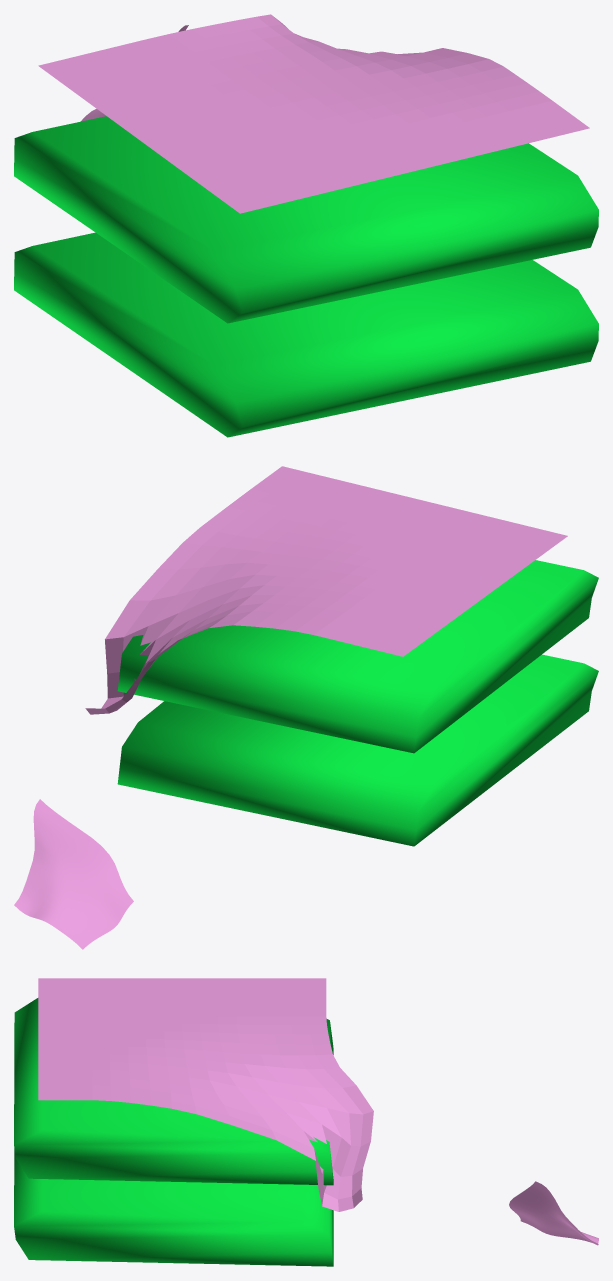
File: newHamburger.glb
3 views of the same model, one above another, from view 1: azimuth 30°, elevation 25°; view 2: azimuth 150°, elevation 25°; view 3: azimuth 270°, elevation 25° (orthographic). The views are drawn at different scales.
Parts seen in each view (by area): view 1: Cube.001, Cube, Plane; view 2: Plane, Cube, Cube.001; view 3: Plane, Cube, Cube.001.
Part boxes in pixels (box(x1,y1,x2,y2)): Cube.001: box(14, 116, 598, 323); Cube: box(14, 232, 598, 437); Plane: box(38, 14, 589, 213); Plane: box(14, 466, 567, 949); Cube: box(117, 654, 598, 846); Cube.001: box(117, 560, 598, 753); Plane: box(38, 978, 598, 1245); Cube: box(14, 1149, 333, 1266); Cube.001: box(14, 998, 333, 1185).
Size of the model in its own units: 25.43 by 16.72 by 45.79.
